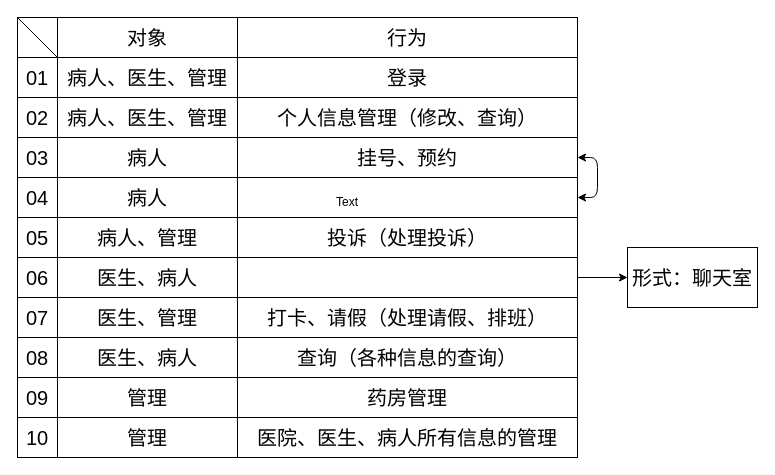
Some shapes in this 775 by 475 pixel diagram are drawn without their labels. Here are the shapes that lost their labels. From the top down, the box of each, then its label:
(236, 176, 578, 218): 缴费（挂号、检测、药品缴费）
(236, 256, 578, 298): 诊断（问诊）
